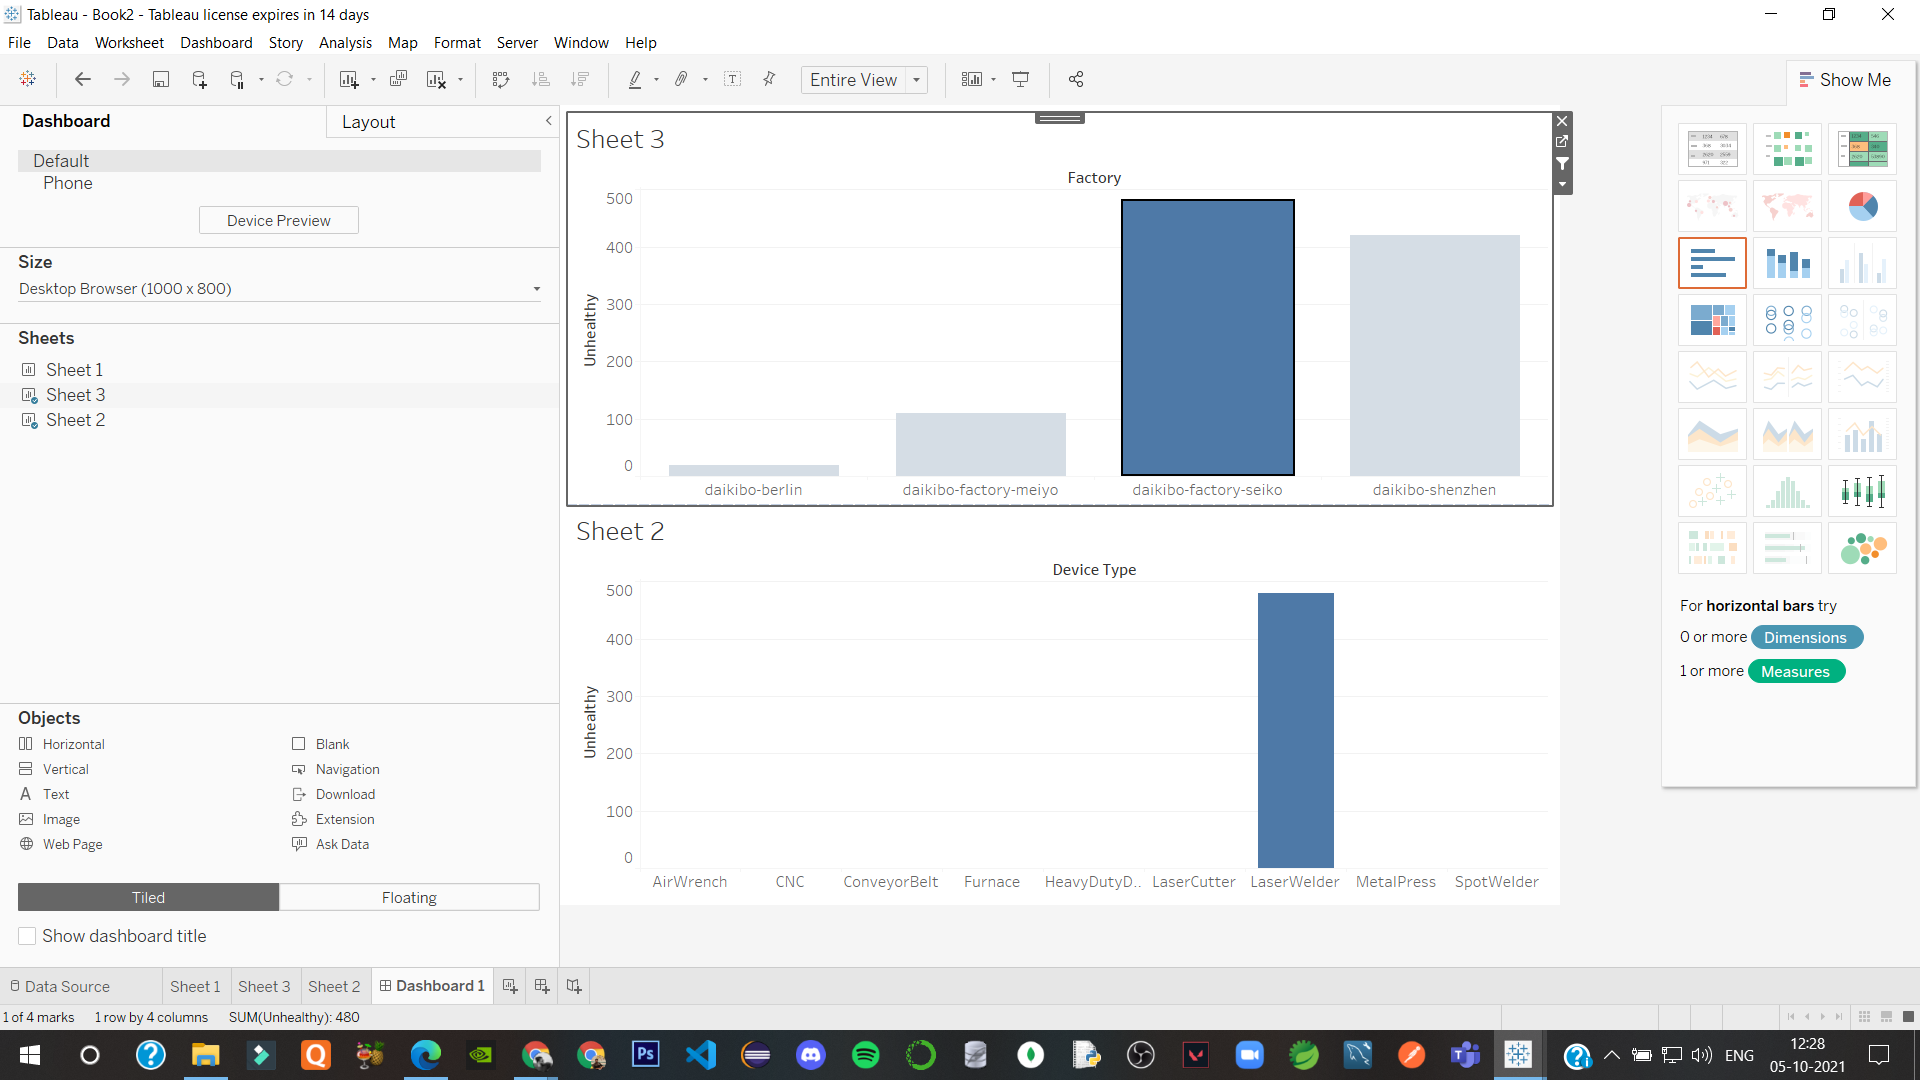

Layout of this report page (visuals, bound fields, positions):
{"tool":"tableau","page":{"name":"Dashboard 1","canvas":[1000,800],"ordinal":0},"visuals":[{"type":"worksheet","title":"Sheet 3","mark":"Automatic","rows":["Calculation_1348546638105538560"],"cols":["factory"],"box":[8,8,984,392]},{"type":"worksheet","title":"Sheet 2","mark":"Automatic","rows":["Calculation_1348546638105538560"],"cols":["deviceType"],"box":[8,400,984,392]}]}

Visuals, with their boxes on the page's 1000x800 design canvas (x1, y1, x2, y2). These are canvas units, not pixel positions in the 1920x1080 screenshot, which may show the page scaled, cropped or inside an application window:
"Sheet 3" worksheet: locate(8, 8, 992, 400)
"Sheet 2" worksheet: locate(8, 400, 992, 792)
